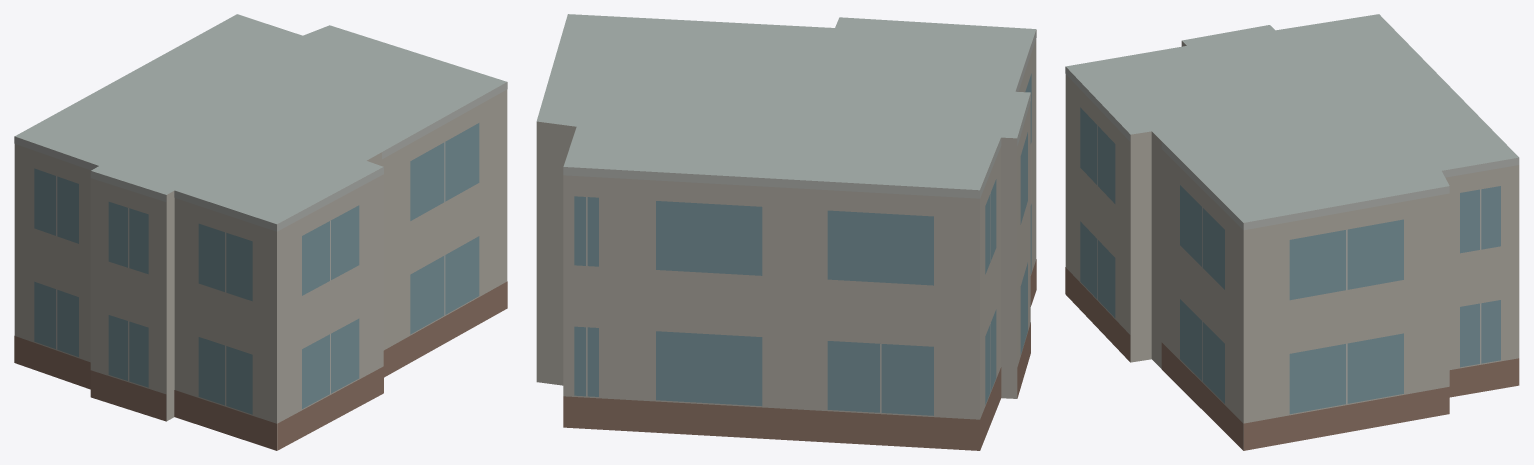
The model's file is survey-upis-32502872.glb.
3 views of the same model, side by side, from view 1: azimuth 30°, elevation 25°; view 2: azimuth 150°, elevation 25°; view 3: azimuth 270°, elevation 25° (orthographic). The views are drawn at different scales.
Visible parts, largest first — view 1: survey-upis-32502872.tmp; view 2: survey-upis-32502872.tmp; view 3: survey-upis-32502872.tmp.
Boxes of the visible parts, left/top/right/bottom form: survey-upis-32502872.tmp: left=14, top=14, right=507, bottom=450; survey-upis-32502872.tmp: left=536, top=14, right=1036, bottom=450; survey-upis-32502872.tmp: left=1065, top=14, right=1519, bottom=450.
Size of the model in its own units: 14.75 by 7.5 by 13.54.
